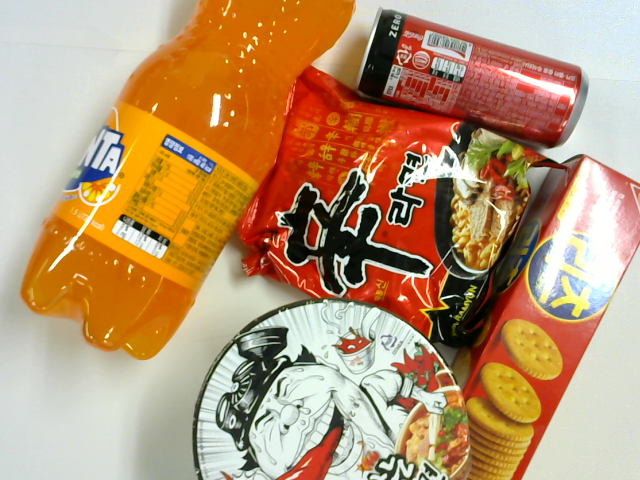Coca_Cola_Zero_Can_250ml: (350, 6, 590, 151)
HeJangsock: (191, 298, 472, 480)
Hwanta_Orange_1.5L: (21, 1, 360, 360)
Ritz_Cracker: (449, 153, 639, 480)
Sinramen: (235, 65, 570, 347)
